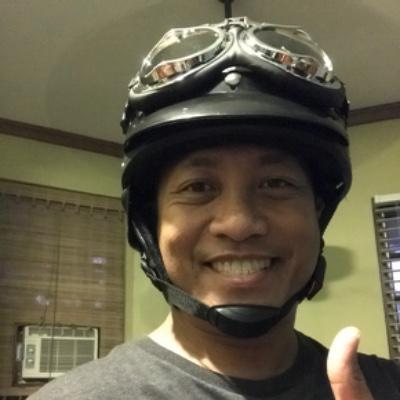helmet: (121, 17, 351, 143)
